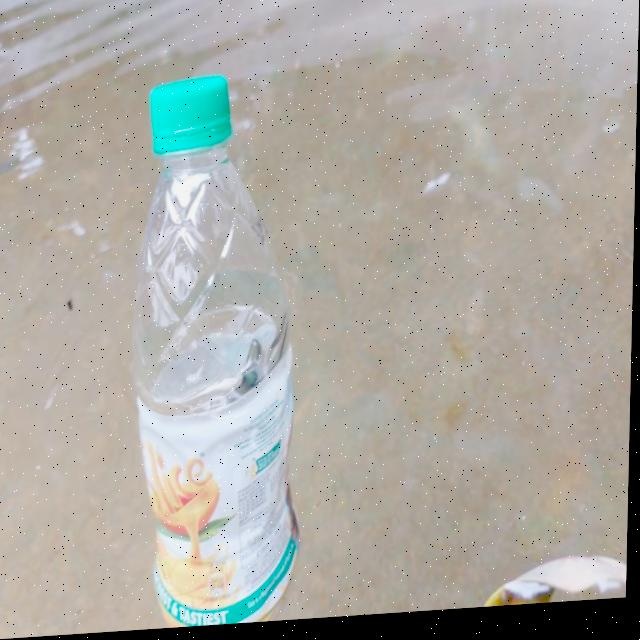leaf: (442, 511, 630, 616)
waterbottle: (126, 67, 347, 633)
